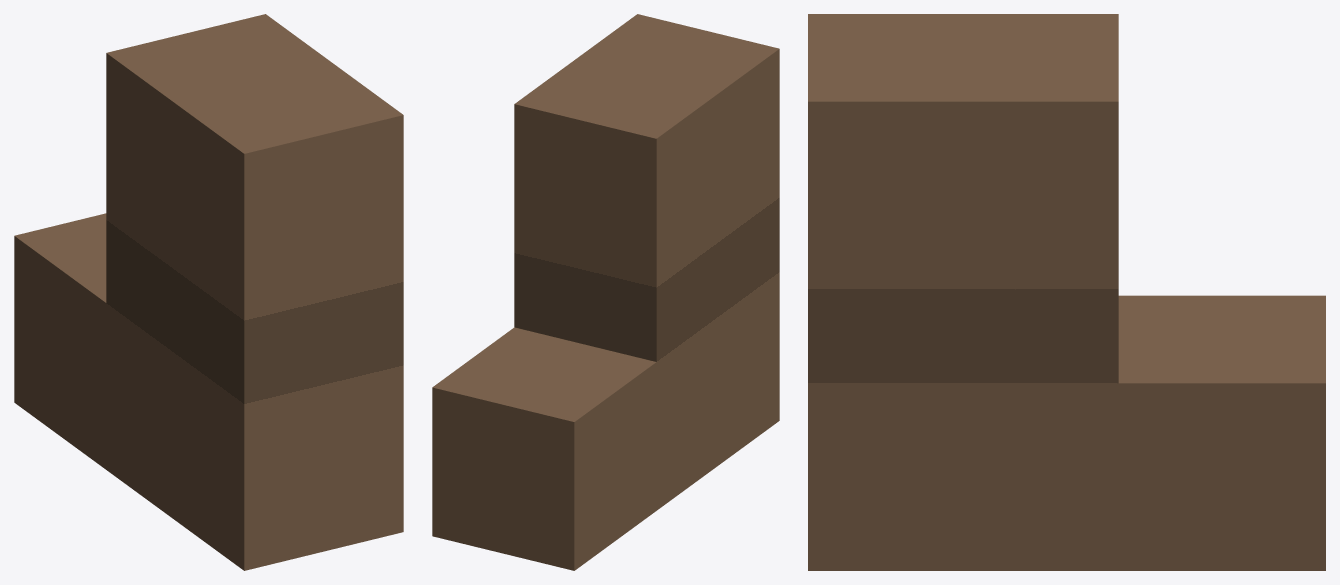
File: mob_flores_leg_left.dae
3 views of the same model, side by side, from view 1: azimuth 30°, elevation 25°; view 2: azimuth 150°, elevation 25°; view 3: azimuth 270°, elevation 25° (orthographic). The views are drawn at different scales.
Visible parts, largest first — view 1: mob_flores_leg_left; view 2: mob_flores_leg_left; view 3: mob_flores_leg_left.
Part boxes in pixels (x1,y1,x2,y2): mob_flores_leg_left: [14, 14, 403, 570]; mob_flores_leg_left: [432, 14, 779, 570]; mob_flores_leg_left: [808, 14, 1325, 570].
Bounding box in the file's own units: 0.2 × 0.5 × 0.5.
1 material, 1 textured.
